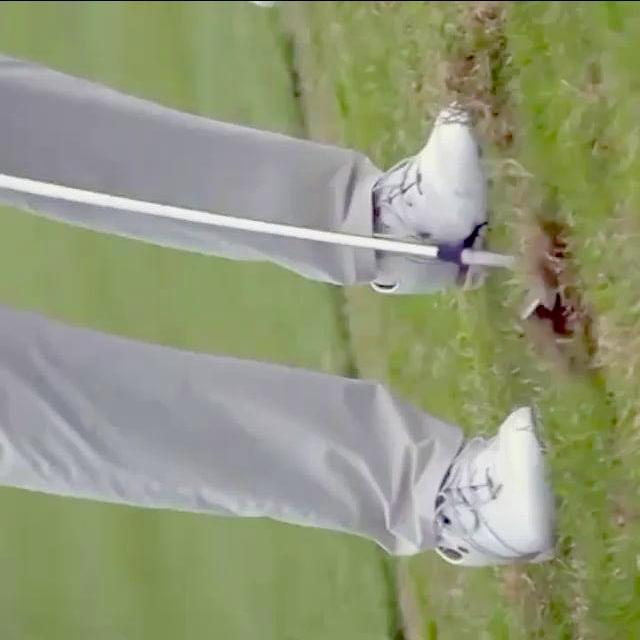ClubHandle: (0, 165, 588, 342)
ClubHead: (508, 252, 582, 325)
